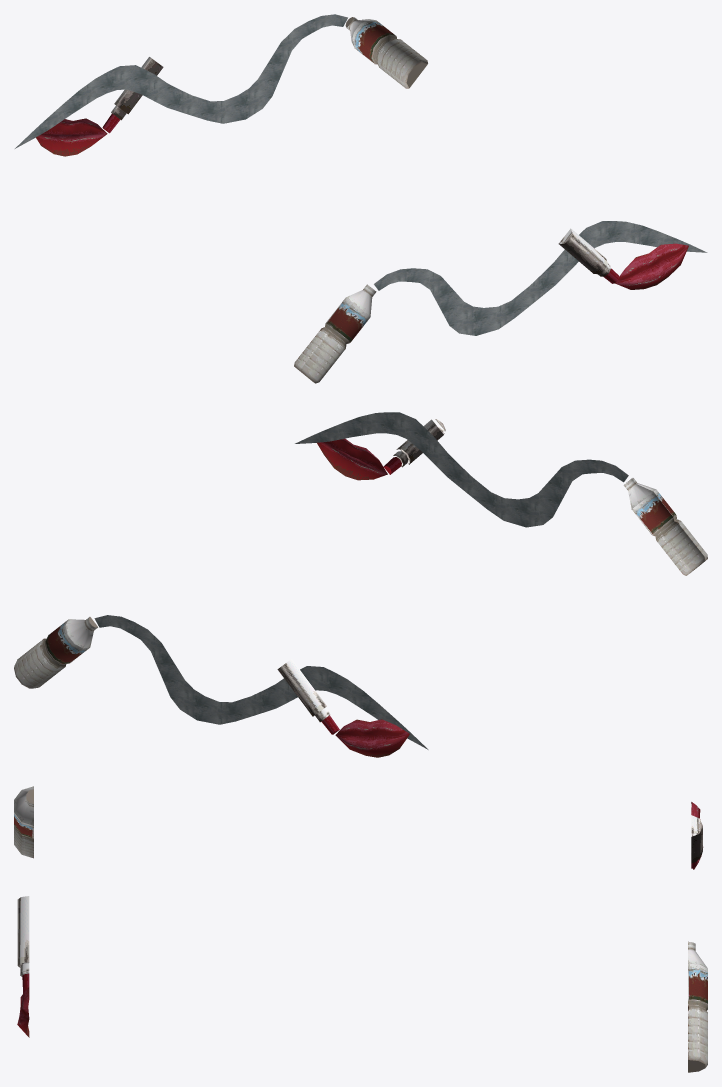
File: lwbldstuff03_lvs.obj
The picture shows the model from 3 angles, top to bottom: view 1: azimuth 30°, elevation 25°; view 2: azimuth 150°, elevation 25°; view 3: azimuth 270°, elevation 25°; orthographic projection. The views are drawn at different scales.
Parts seen in each view (by area): view 1: lwbldstuff03_lvs; view 2: lwbldstuff03_lvs; view 3: lwbldstuff03_lvs.
Boxes of the visible parts, x1,y1,x2,y2 form: lwbldstuff03_lvs: [15, 14, 707, 383]; lwbldstuff03_lvs: [14, 412, 707, 757]; lwbldstuff03_lvs: [14, 786, 707, 1072].
Size of the model in its own units: 32.87 by 7.03 by 40.27.
Materials: 3 (3 with a texture image).
